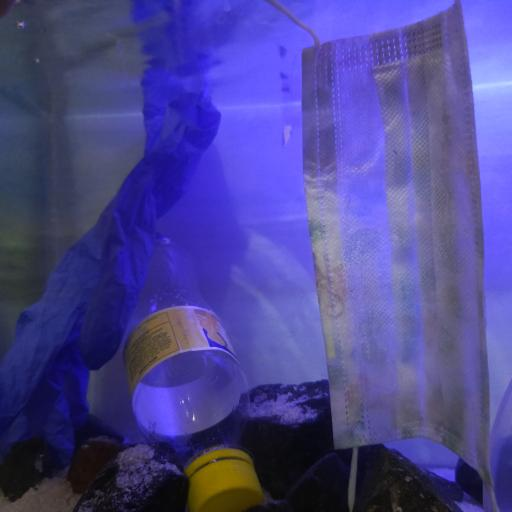bottle_cap: (186, 459, 262, 512)
glove: (0, 56, 220, 468)
mask: (301, 0, 491, 499)
plastic_bottle: (117, 239, 264, 512)
